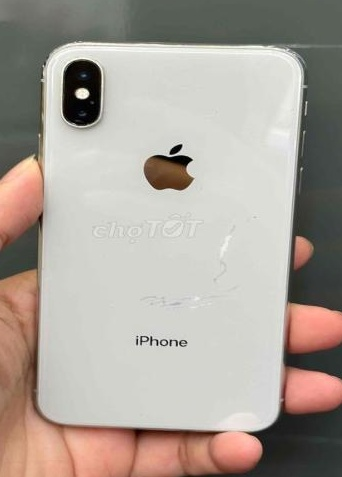scratch: (128, 271, 224, 321), (204, 218, 244, 303), (66, 117, 99, 134)
